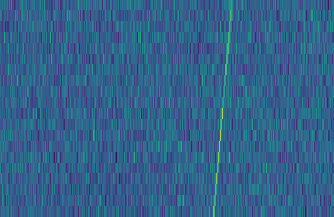signal: (209, 0, 237, 217)
